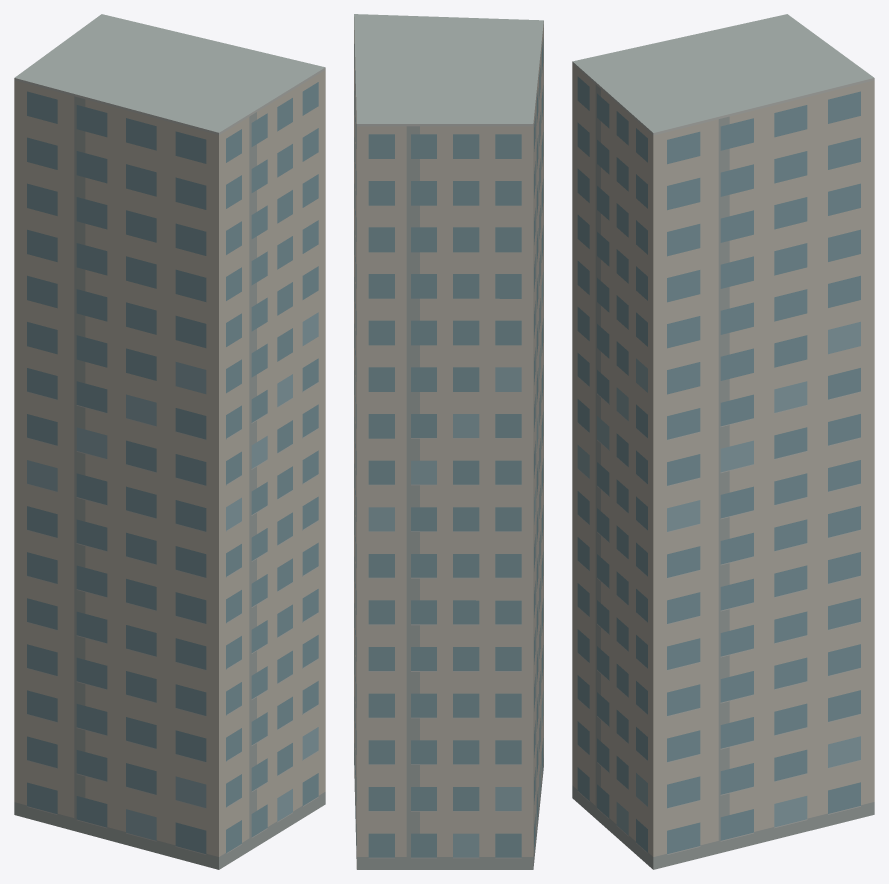
The model's file is residential-fc90ef9e-f598-49a7-ab0a-2a2a87be98ec.glb.
3 views of the same model, side by side, from view 1: azimuth 30°, elevation 25°; view 2: azimuth 150°, elevation 25°; view 3: azimuth 270°, elevation 25° (orthographic).
Visible parts, largest first — view 1: residential-fc90ef9e-f598-49a7-ab0a-2a2a87be98ec.tmp; view 2: residential-fc90ef9e-f598-49a7-ab0a-2a2a87be98ec.tmp; view 3: residential-fc90ef9e-f598-49a7-ab0a-2a2a87be98ec.tmp.
Boxes of the visible parts, x1=… form: residential-fc90ef9e-f598-49a7-ab0a-2a2a87be98ec.tmp: x1=14, y1=14, x2=325, y2=869; residential-fc90ef9e-f598-49a7-ab0a-2a2a87be98ec.tmp: x1=354, y1=14, x2=543, y2=869; residential-fc90ef9e-f598-49a7-ab0a-2a2a87be98ec.tmp: x1=572, y1=14, x2=874, y2=869.
Size of the model in its own units: 26.01 by 75 by 27.87.
